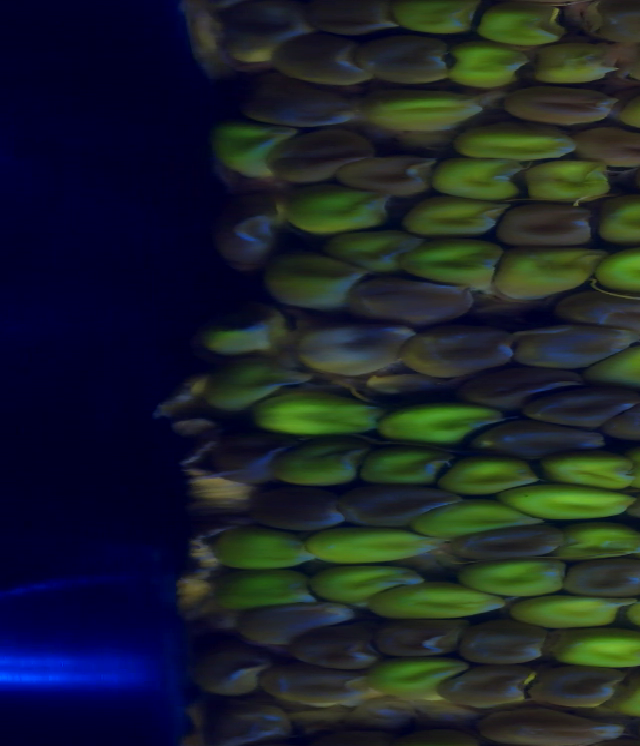fluorescent: (270, 250, 372, 313), (500, 485, 638, 524), (397, 198, 508, 244), (500, 240, 597, 292), (534, 451, 640, 498), (364, 588, 502, 624), (472, 1, 572, 50), (209, 358, 300, 409), (201, 529, 315, 569), (444, 36, 526, 89), (523, 158, 619, 203), (407, 246, 498, 292), (220, 567, 307, 615), (219, 124, 289, 183), (307, 559, 409, 599), (257, 398, 376, 432), (294, 194, 390, 236), (438, 163, 530, 206), (552, 632, 640, 676), (307, 526, 424, 559), (381, 406, 504, 437), (456, 132, 578, 163), (527, 43, 612, 87), (455, 452, 538, 496), (563, 522, 640, 567), (334, 231, 409, 274), (370, 451, 453, 489), (504, 598, 620, 625), (274, 448, 361, 483), (463, 565, 564, 595), (418, 502, 522, 531), (383, 99, 475, 131), (393, 1, 472, 35), (597, 246, 640, 300), (193, 320, 282, 344), (381, 658, 452, 687), (596, 346, 640, 383), (605, 203, 640, 243)
nonfluorescent: (352, 273, 467, 324), (409, 322, 517, 370), (521, 320, 636, 365), (491, 707, 629, 743), (213, 6, 295, 63), (284, 35, 373, 87), (244, 596, 354, 637), (299, 329, 414, 367), (503, 87, 617, 125), (251, 84, 367, 120), (502, 199, 591, 244), (248, 483, 335, 529), (263, 665, 367, 703), (276, 139, 372, 180), (461, 618, 557, 659), (372, 40, 454, 87), (531, 661, 622, 703), (341, 484, 455, 517), (214, 702, 293, 746), (483, 424, 596, 454), (377, 625, 461, 665), (222, 210, 283, 265), (522, 391, 636, 420), (459, 370, 572, 398), (202, 646, 269, 692), (563, 291, 640, 331), (459, 533, 565, 561), (300, 1, 387, 35), (351, 166, 437, 200), (214, 432, 277, 478), (296, 631, 373, 667), (446, 666, 532, 698), (566, 561, 640, 594), (578, 9, 640, 48), (581, 128, 640, 165), (606, 396, 640, 439)
